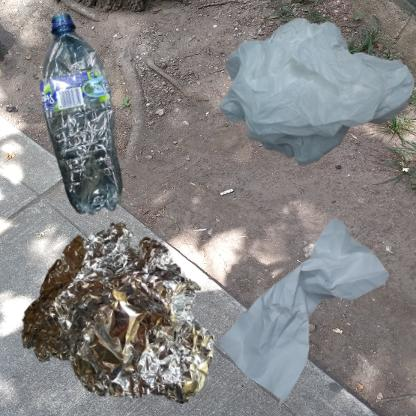aluminio: (10, 213, 223, 416)
bolsa: (213, 10, 416, 182)
botella: (10, 10, 175, 246)
papel: (213, 213, 391, 412)
